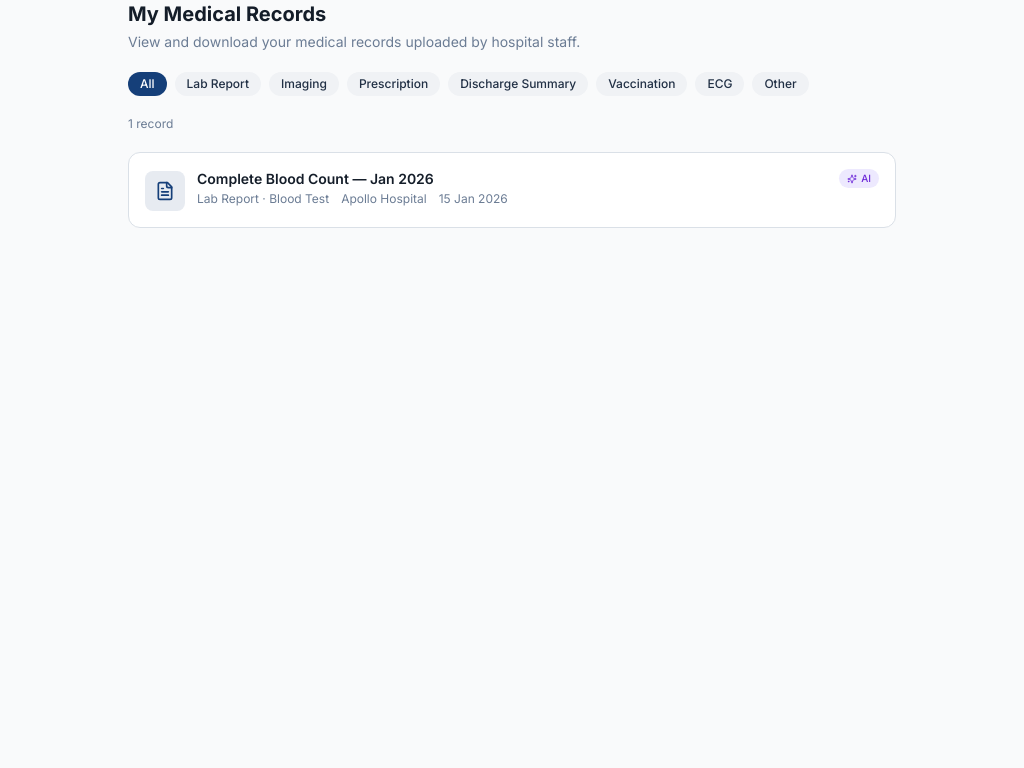
Test case: PatientRecordsPage — Detail modal › opens the detail modal when a record card is clicked
Click the text "Complete Blood Count — Jan 2026".
click(315, 178)  # box [197, 170, 434, 187]
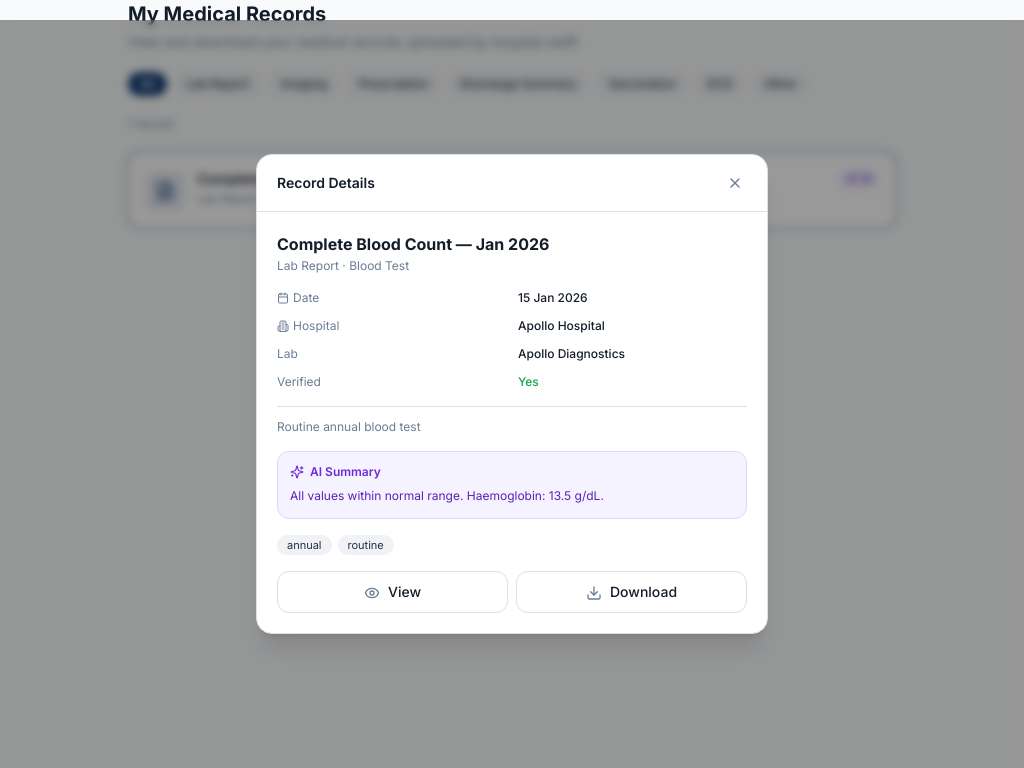
Expected: the heading "Record Details" is shown, [277, 173, 375, 193]
